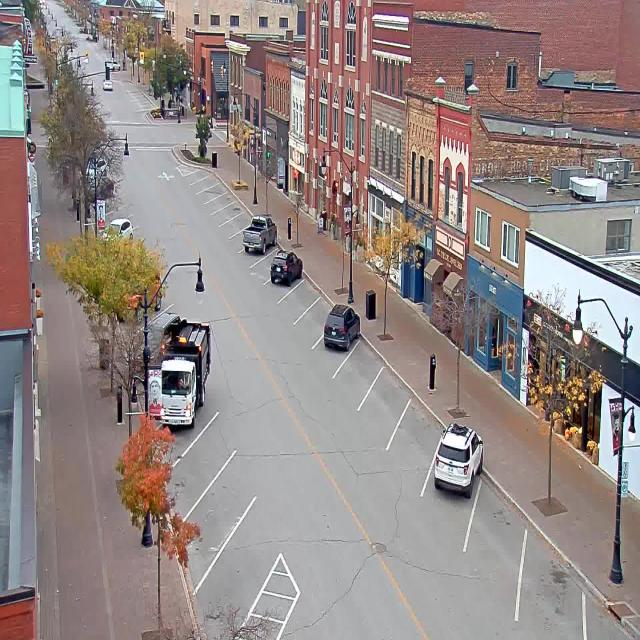available: (513, 527, 586, 635), (464, 473, 533, 582), (228, 492, 290, 575), (205, 442, 269, 520), (389, 399, 443, 469), (362, 359, 413, 431), (192, 406, 245, 472), (578, 588, 640, 640), (339, 332, 382, 396), (303, 292, 330, 330), (291, 276, 318, 309), (258, 236, 285, 267), (233, 209, 254, 233), (206, 174, 226, 198), (198, 168, 218, 192), (225, 198, 245, 221), (214, 187, 234, 209), (192, 164, 208, 183)
occupied: (143, 315, 221, 432), (434, 421, 484, 498), (323, 302, 360, 351), (242, 213, 277, 254), (270, 249, 303, 286)
